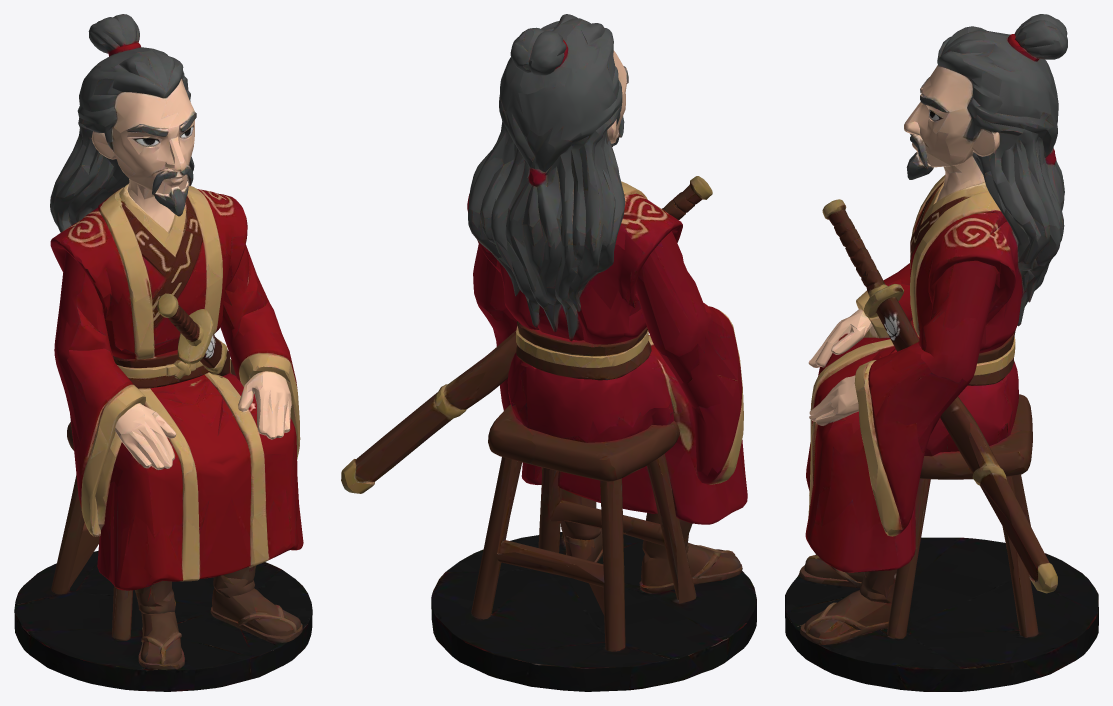
File: piandao2.glb
3 renders of one model, left to right at view 1: azimuth 30°, elevation 25°; view 2: azimuth 150°, elevation 25°; view 3: azimuth 270°, elevation 25°, orthographic. The views are drawn at different scales.
Visible parts, largest first — view 1: Mesh_0; view 2: Mesh_0; view 3: Mesh_0.
Part boxes in pixels (x1,y1,x2,y2): Mesh_0: (14, 14, 312, 691); Mesh_0: (341, 14, 756, 691); Mesh_0: (785, 14, 1098, 691).
Bounding box in the file's own units: 1.06 × 1.9 × 0.8887.
1 material, 1 textured.
